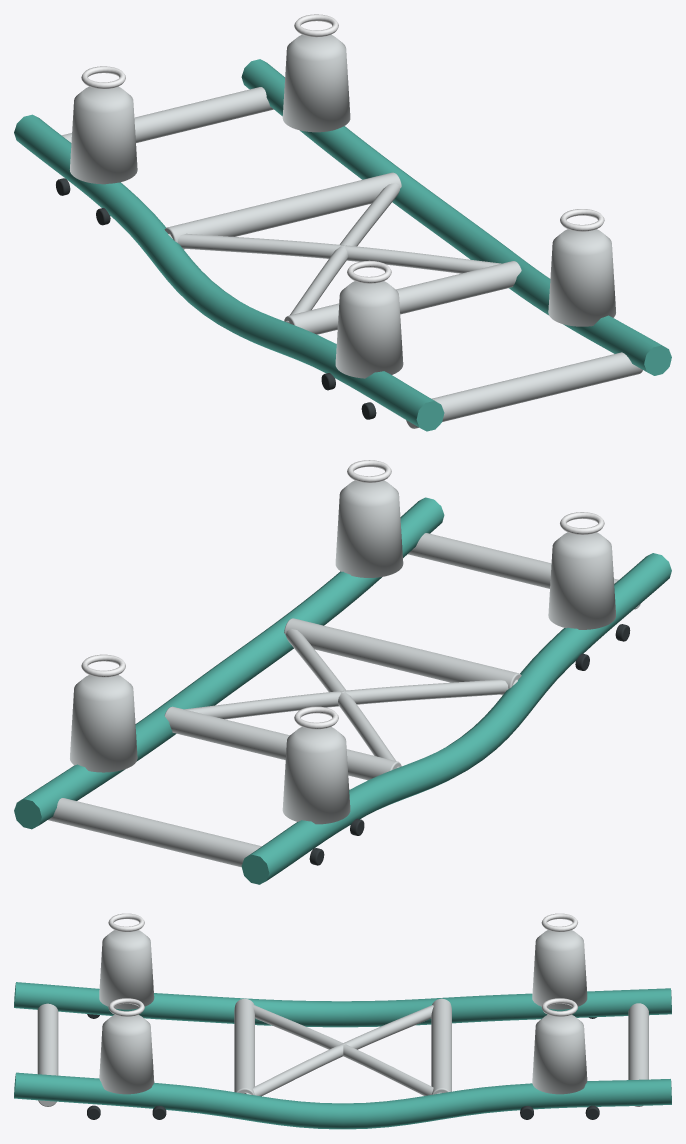
The model's file is chassis_light.fbx.
The picture shows the model from 3 angles, top to bottom: view 1: azimuth 30°, elevation 25°; view 2: azimuth 150°, elevation 25°; view 3: azimuth 270°, elevation 25°; orthographic projection. The views are drawn at different scales.
Parts seen in each view (by area): view 1: chassis_light; view 2: chassis_light; view 3: chassis_light.
Boxes of the visible parts, x1,y1,x2,y2 form: chassis_light: (14, 14, 671, 431); chassis_light: (14, 460, 671, 884); chassis_light: (14, 913, 671, 1129).
Size of the model in its own units: 77.6 by 36.31 by 190.
